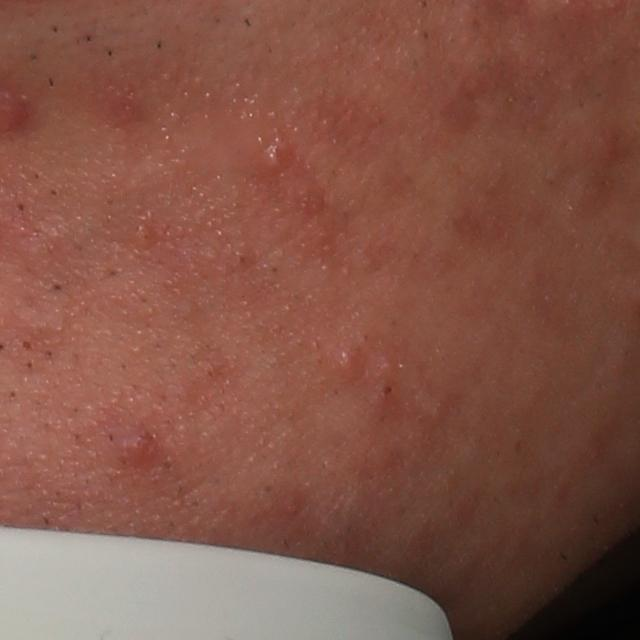comedo: (379, 379, 399, 399), (22, 338, 34, 352)
papule: (105, 418, 170, 473), (251, 130, 310, 177), (331, 346, 371, 382)
